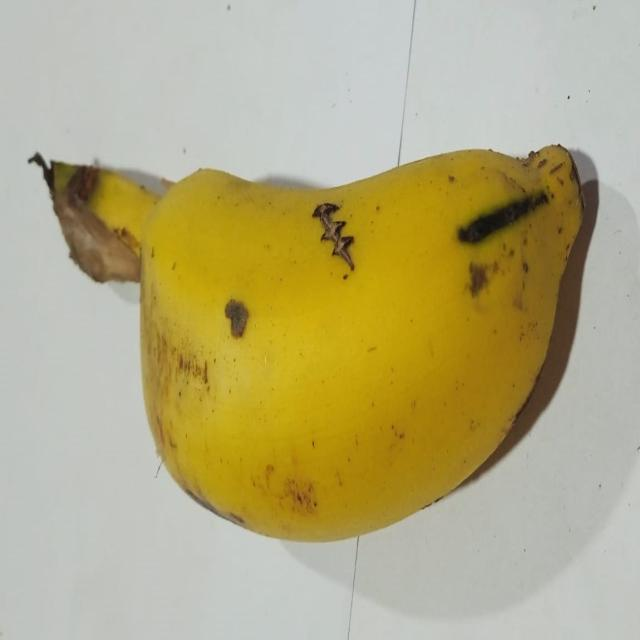banana: (136, 147, 583, 540)
